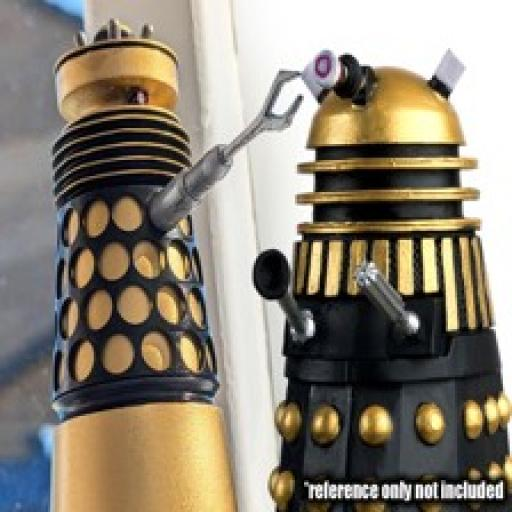dalek: (235, 41, 512, 510)
